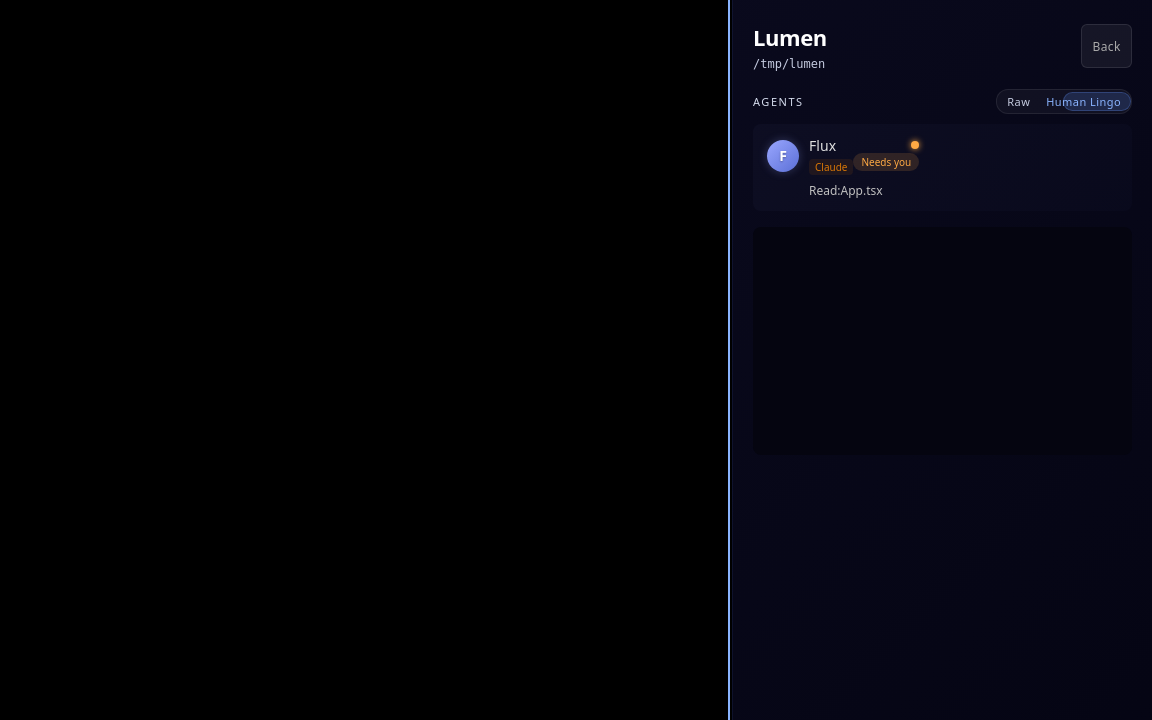
Scenario: project panel › on a narrow window, closing a sky selection stays on the sky
This screenshot has width=1152, height=720.
Click the button with aria-label "Back to projects" at point(1107, 46), box x1=1081 y1=24 x2=1132 y2=68
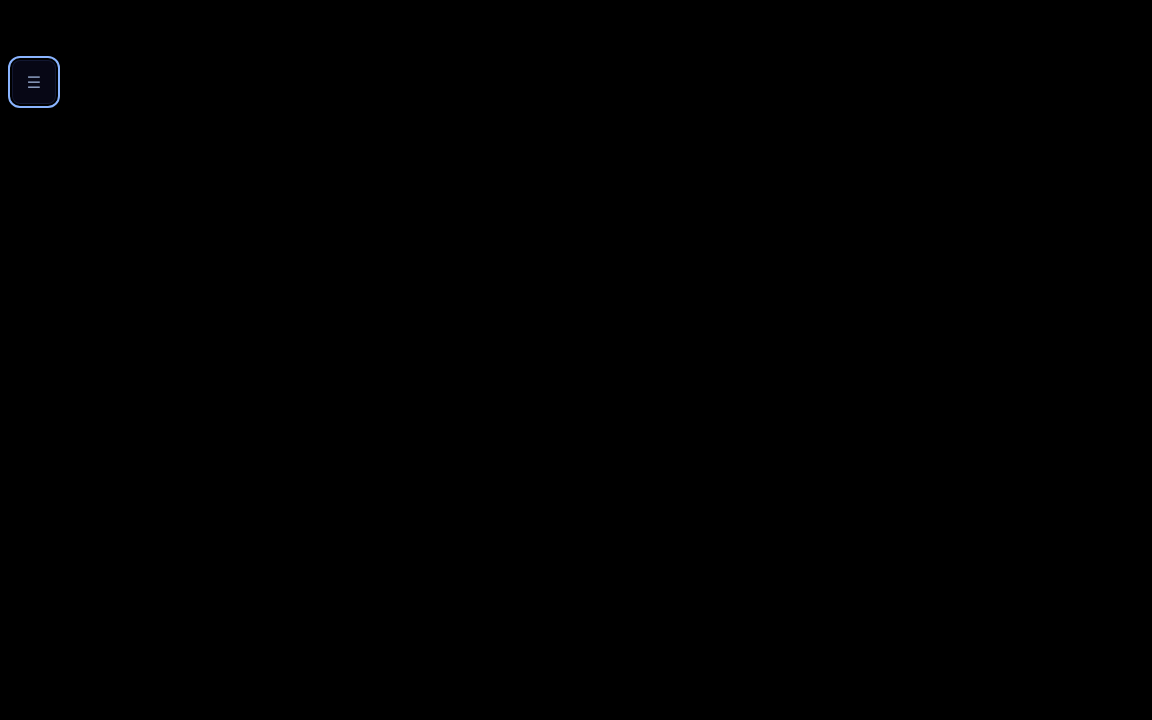
Expected: the heading "Lumen" is gone
